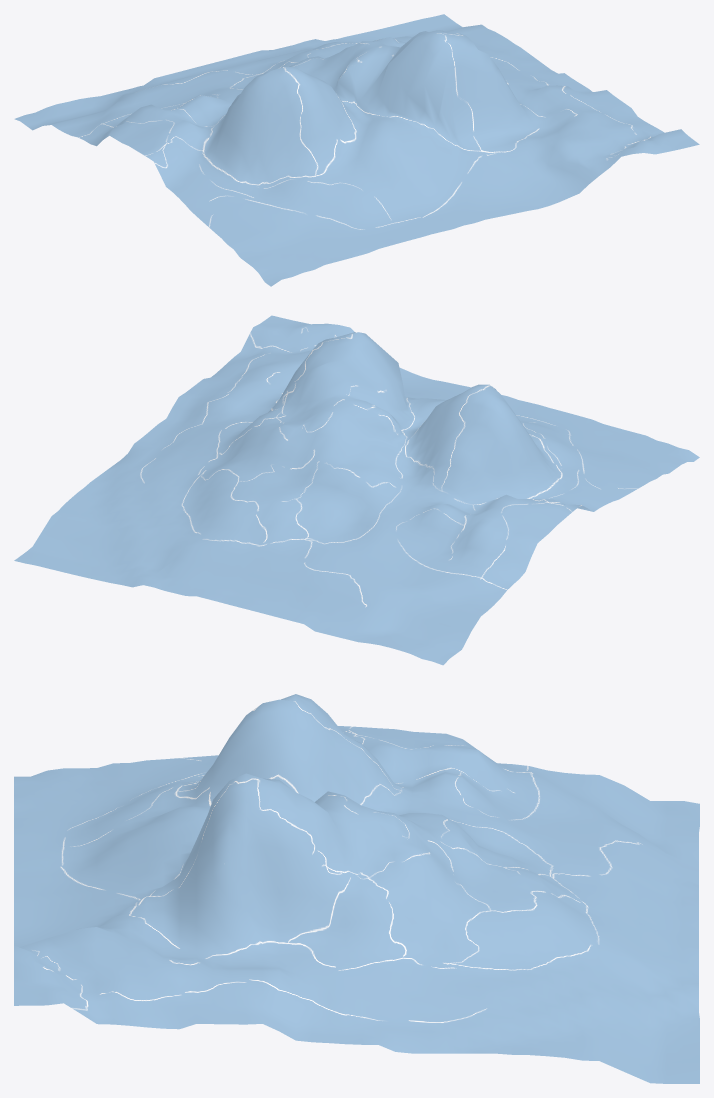
File: snowmountain.glb
The picture shows the model from 3 angles, top to bottom: view 1: azimuth 30°, elevation 25°; view 2: azimuth 150°, elevation 25°; view 3: azimuth 270°, elevation 25°; orthographic projection. The views are drawn at different scales.
Parts seen in each view (by area): view 1: snowmountains; view 2: snowmountains; view 3: snowmountains.
Boxes of the visible parts, <box> form: snowmountains: <box>14,14,699,286</box>; snowmountains: <box>14,315,699,665</box>; snowmountains: <box>14,694,699,1083</box>.
Size of the model in its own units: 59.96 by 19.62 by 62.06.
1 material, 1 textured.
